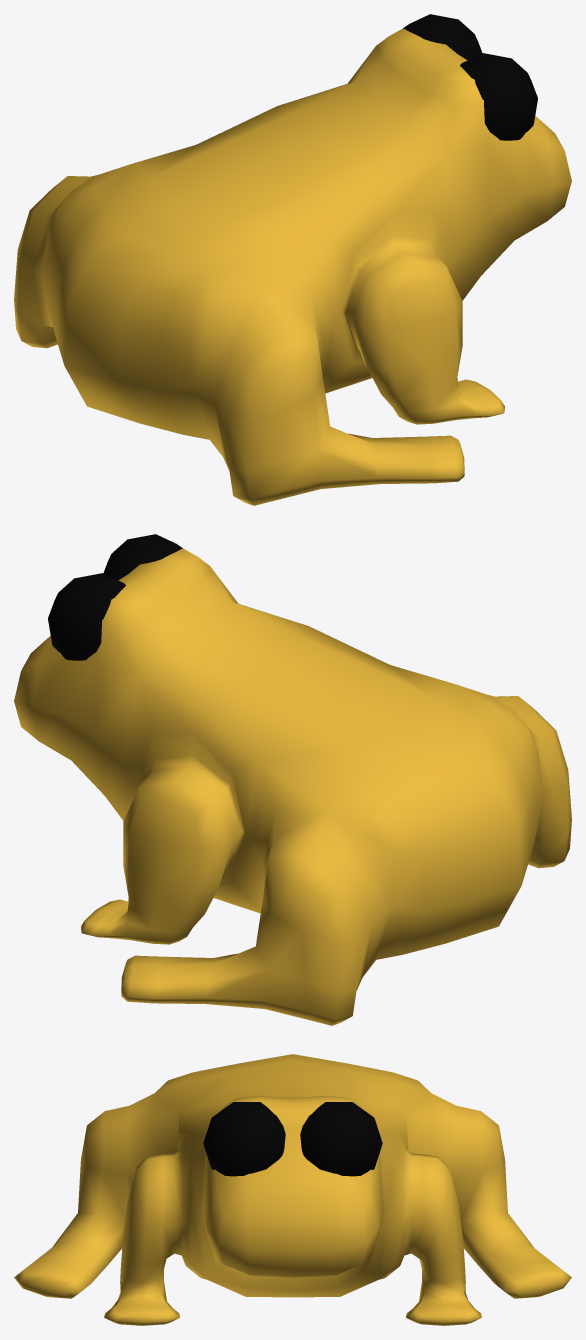
Rendered from frog.fbx.
The picture shows the model from 3 angles, top to bottom: view 1: azimuth 30°, elevation 25°; view 2: azimuth 150°, elevation 25°; view 3: azimuth 270°, elevation 25°; orthographic projection. The views are drawn at different scales.
Visible parts, largest first — view 1: Cube, Icosphere; view 2: Cube, Icosphere; view 3: Cube, Icosphere.
Boxes of the visible parts, left/top/right/bottom form: Cube: left=14, top=29, right=571, bottom=505; Icosphere: left=403, top=14, right=537, bottom=140; Cube: left=14, top=549, right=571, bottom=1025; Icosphere: left=48, top=534, right=182, bottom=660; Cube: left=14, top=1054, right=571, bottom=1325; Icosphere: left=203, top=1102, right=382, bottom=1176.
Bounding box in the file's own units: 174 × 108 × 204.
